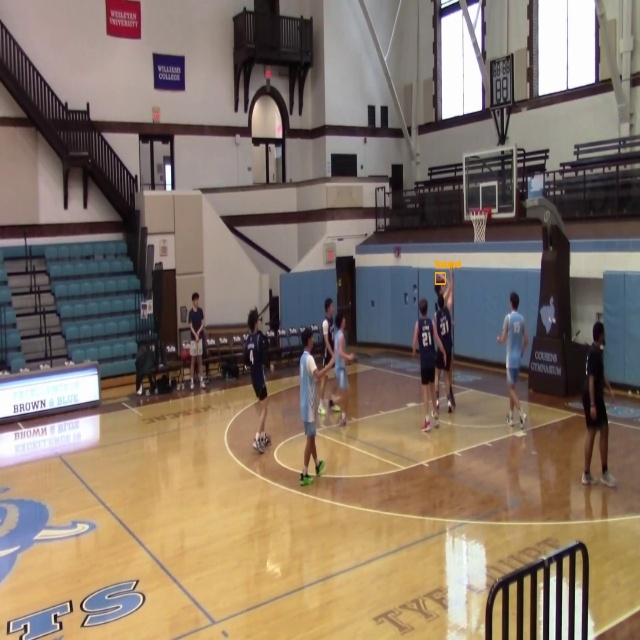Basketball: (435, 273, 445, 284)
